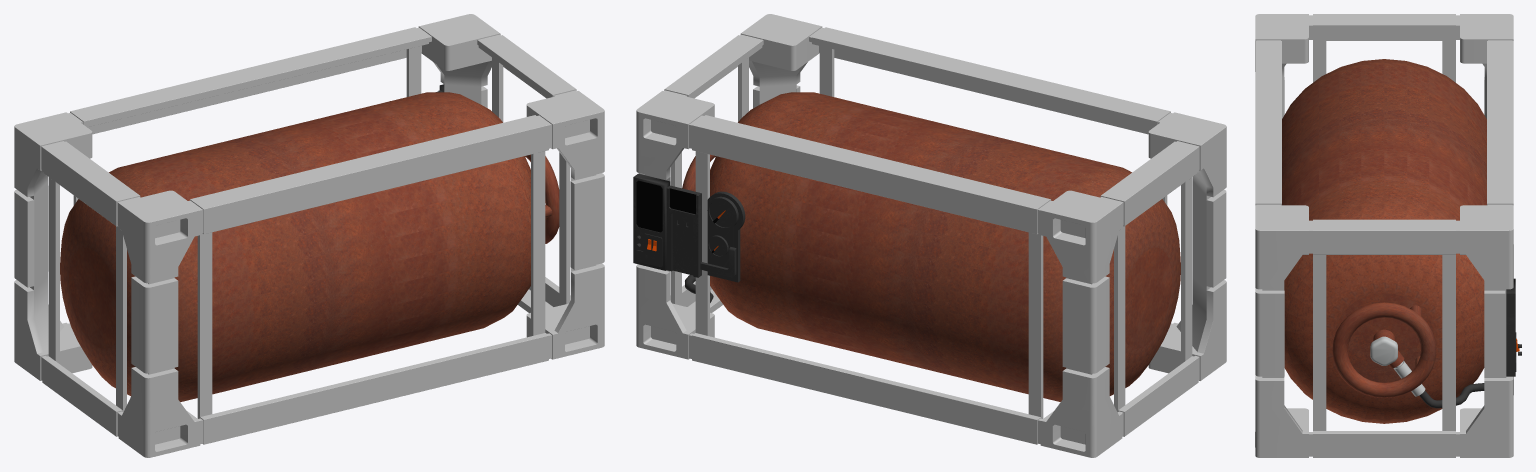
Rendered from frame_barrel.fbx.
3 views of the same model, side by side, from view 1: azimuth 30°, elevation 25°; view 2: azimuth 150°, elevation 25°; view 3: azimuth 270°, elevation 25° (orthographic). The views are drawn at different scales.
Parts seen in each view (by area): view 1: Cube.068, Cylinder.013; view 2: Cube.068, Cylinder.013, Cube.062, Cube.060, Cube.059; view 3: Cylinder.013, Cube.068, Cube.062.
Part boxes in pixels (x1,y1,x2,y2): Cube.068: [14, 14, 604, 457]; Cylinder.013: [60, 92, 559, 401]; Cube.068: [636, 14, 1226, 457]; Cylinder.013: [682, 92, 1180, 401]; Cube.062: [633, 173, 670, 270]; Cube.060: [666, 185, 701, 277]; Cube.059: [700, 191, 745, 282]; Cylinder.013: [1282, 59, 1486, 423]; Cube.068: [1255, 14, 1513, 457]; Cube.062: [1506, 278, 1521, 376].
Bounding box in the file's own units: 224 × 111 × 117.
